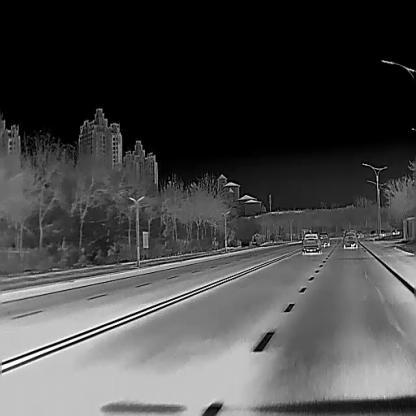car: (301, 232, 321, 255), (342, 230, 358, 249), (319, 232, 330, 247), (357, 230, 364, 238), (369, 230, 376, 236)
